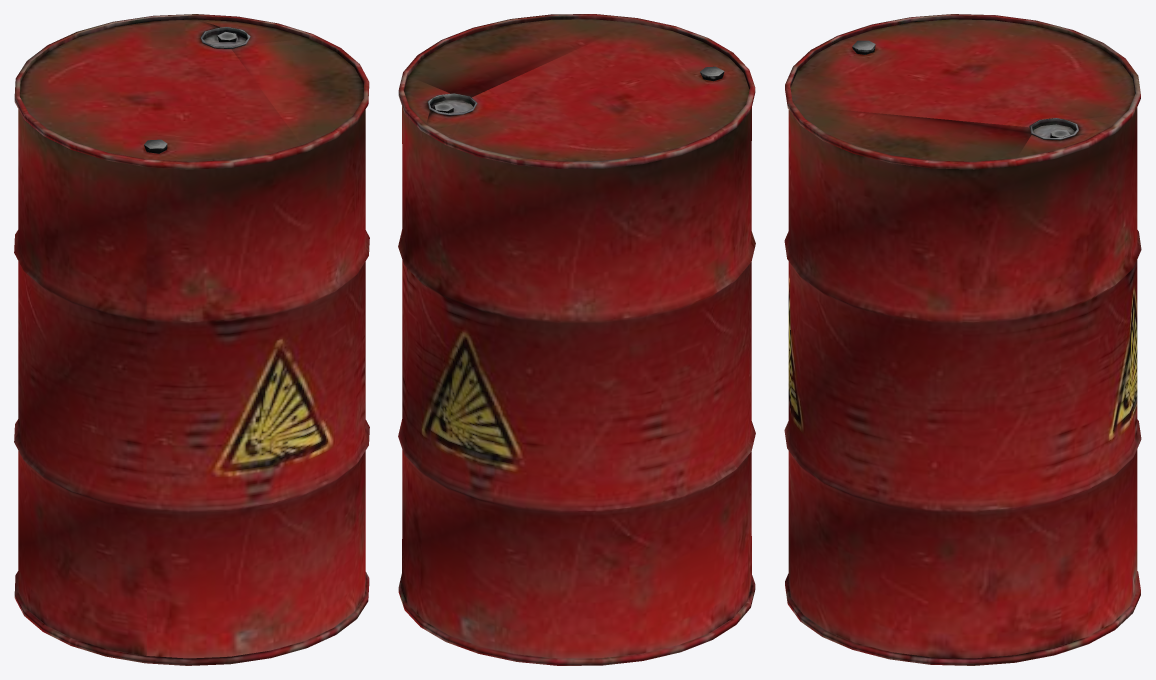
Rendered from Barrel_01.glb.
3 views of the same model, side by side, from view 1: azimuth 30°, elevation 25°; view 2: azimuth 150°, elevation 25°; view 3: azimuth 270°, elevation 25° (orthographic).
Visible parts, largest first — view 1: Barrel_01; view 2: Barrel_01; view 3: Barrel_01.
Part boxes in pixels (bbox=[...]): Barrel_01: bbox=[14, 14, 369, 665]; Barrel_01: bbox=[398, 14, 755, 665]; Barrel_01: bbox=[784, 14, 1141, 665].
Bounding box in the file's own units: 0.5638 × 0.8792 × 0.5638.
Materials: 1 (1 with a texture image).
